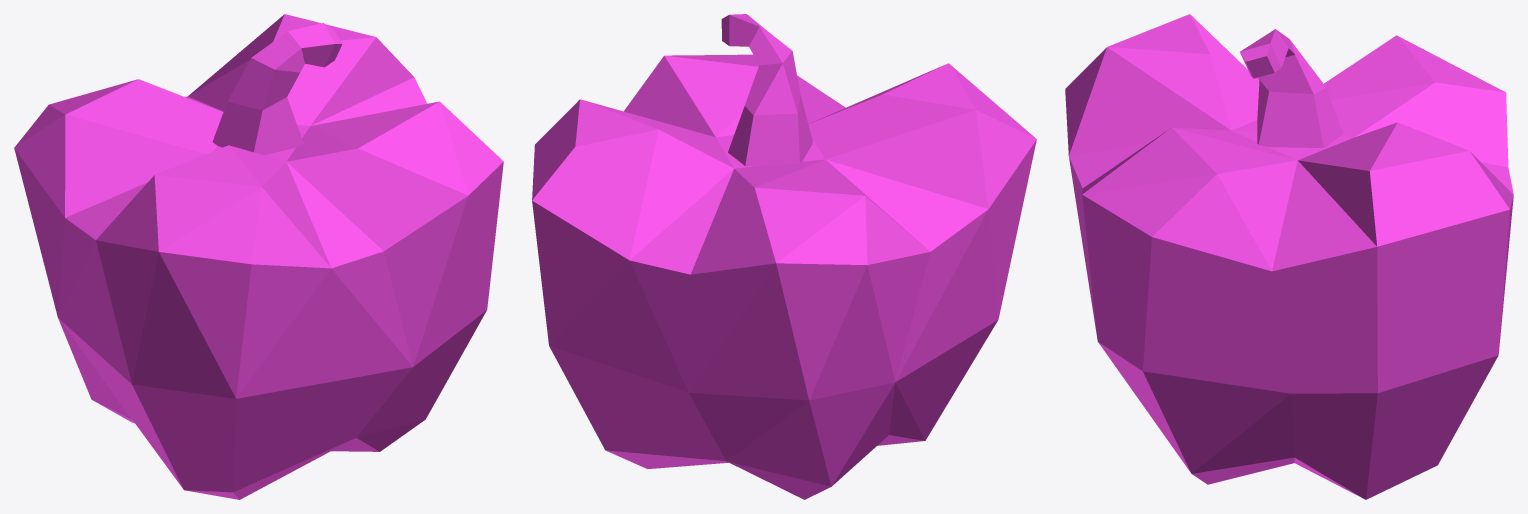
Rendered from SM_BellPepper_A.fbx.
The picture shows the model from 3 angles, left to right: view 1: azimuth 30°, elevation 25°; view 2: azimuth 150°, elevation 25°; view 3: azimuth 270°, elevation 25°; orthographic projection. The views are drawn at different scales.
Visible parts, largest first — view 1: SM_Bell_Pepper_A; view 2: SM_Bell_Pepper_A; view 3: SM_Bell_Pepper_A.
Part boxes in pixels (x1,y1,x2,y2): SM_Bell_Pepper_A: (14, 14, 503, 499); SM_Bell_Pepper_A: (532, 14, 1036, 499); SM_Bell_Pepper_A: (1065, 14, 1513, 499).
Bounding box in the file's own units: 0.1444 × 0.1486 × 0.1404.
